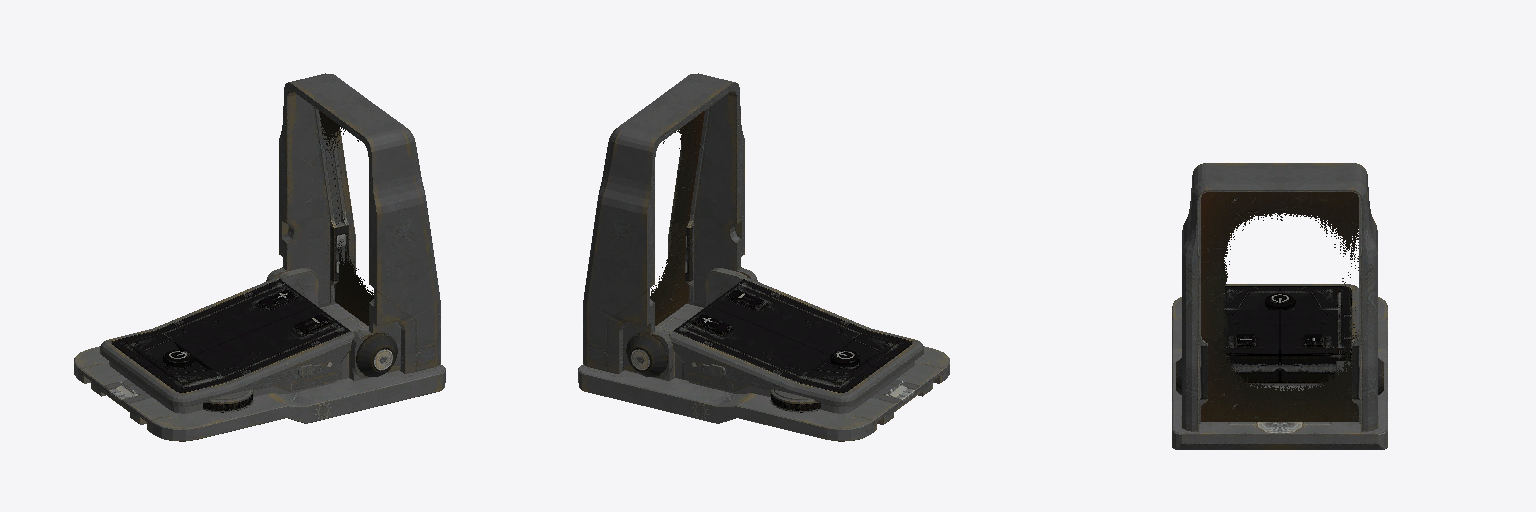
3 views of the same model, side by side, from view 1: azimuth 30°, elevation 25°; view 2: azimuth 150°, elevation 25°; view 3: azimuth 270°, elevation 25° (orthographic).
Visible parts, largest first — view 1: unsc_scope_smg; view 2: unsc_scope_smg; view 3: unsc_scope_smg.
Boxes of the visible parts, box(x1,y1,x2,y2) form: unsc_scope_smg: box(74, 73, 445, 441); unsc_scope_smg: box(578, 73, 949, 441); unsc_scope_smg: box(1172, 163, 1387, 449).
Bounding box in the file's own units: 0.0539 × 0.0469 × 0.0358.
Materials: 2 (1 with a texture image).